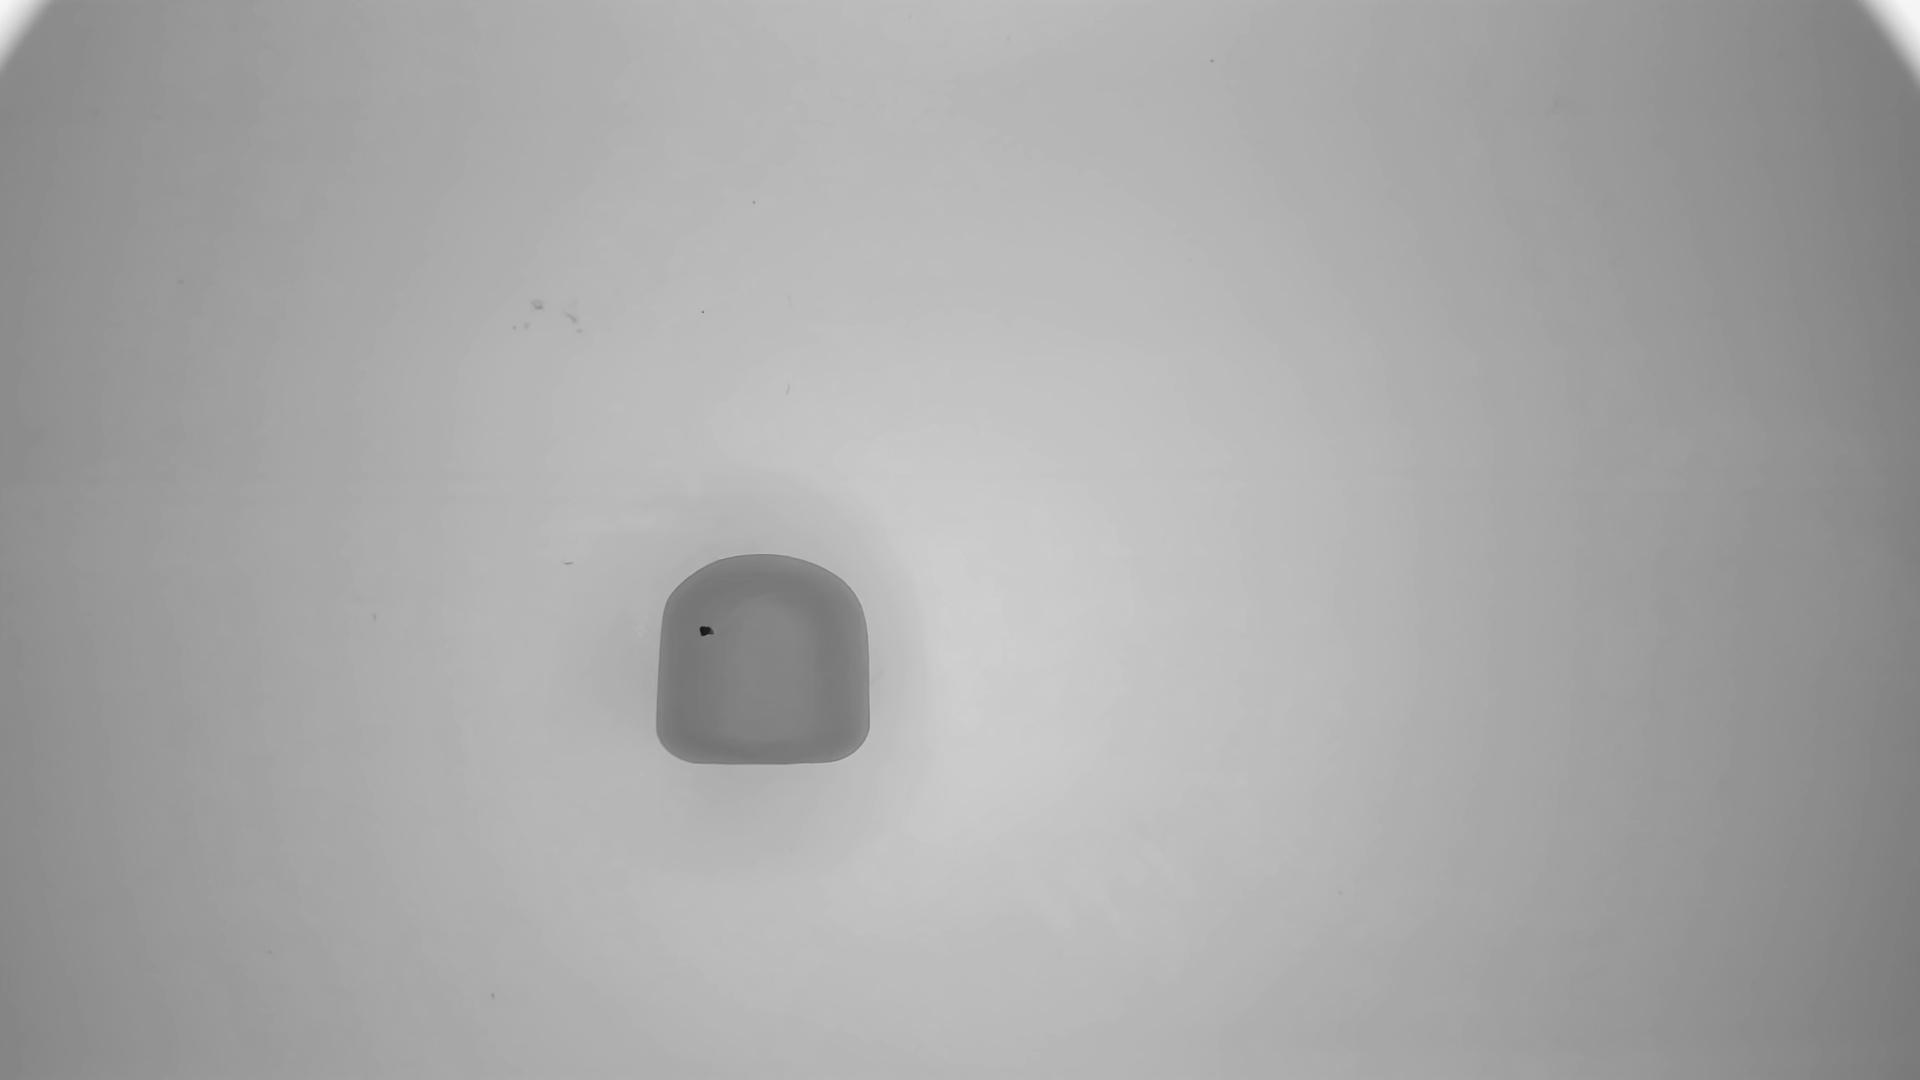abnormal: (654, 550, 878, 771)
